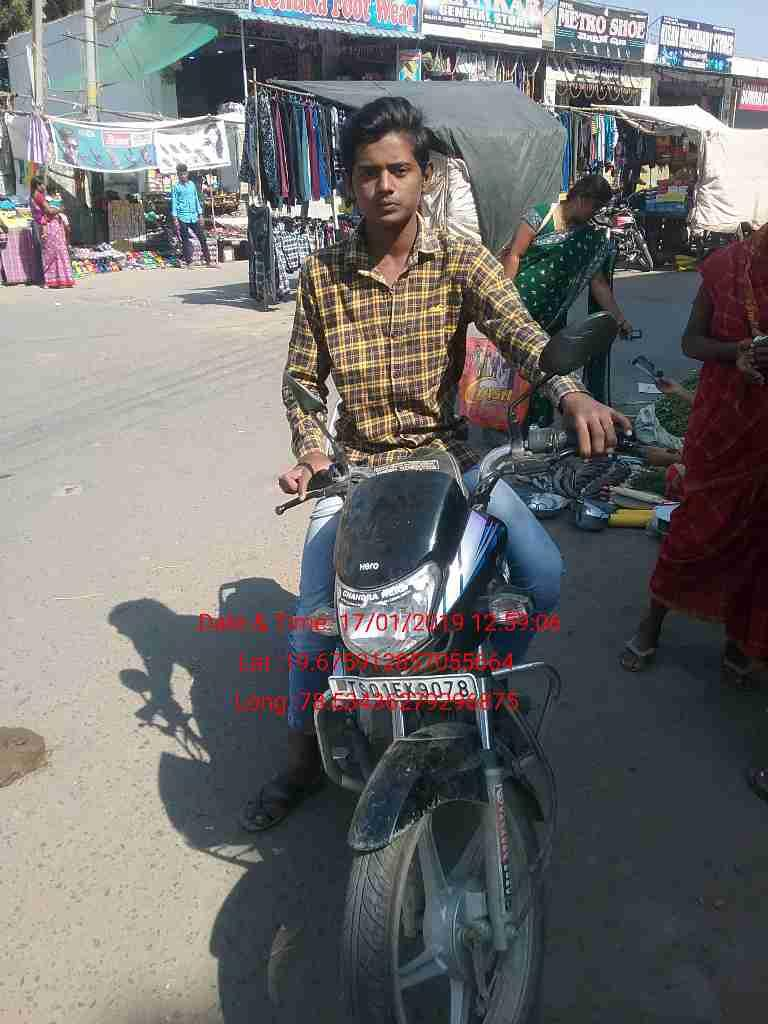plate: (324, 672, 482, 707)
